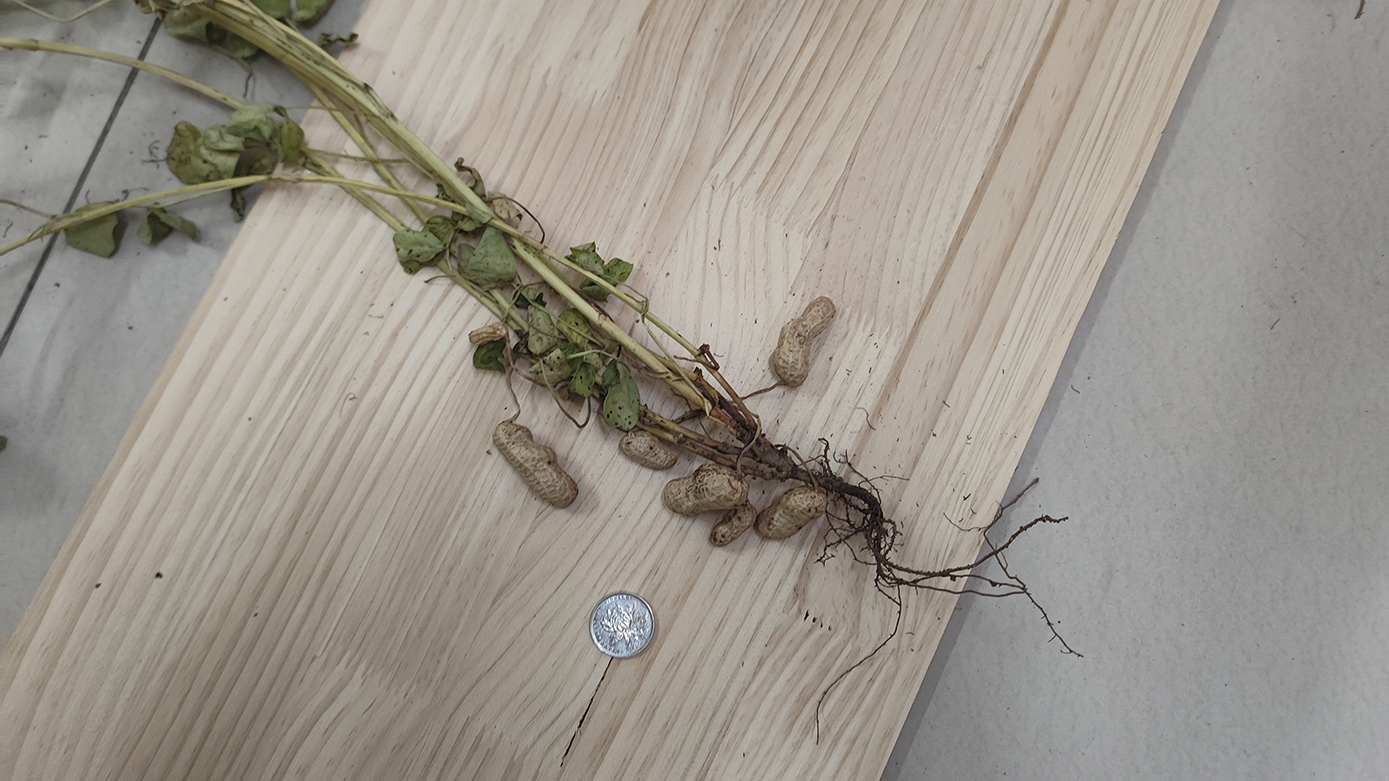h: (495, 421, 579, 508), (774, 295, 836, 386), (662, 463, 749, 516), (756, 487, 829, 540), (619, 428, 676, 469), (710, 503, 758, 546)
l: (469, 322, 506, 342)
